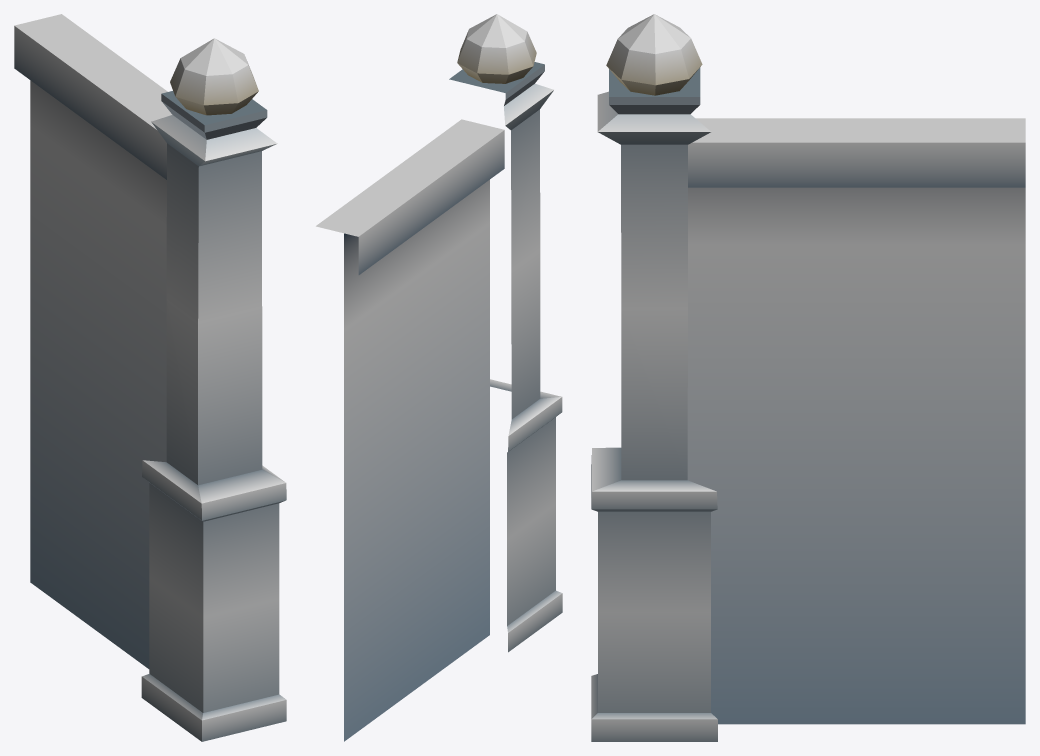
Rendered from WarpWall.gltf.
The picture shows the model from 3 angles, left to right: view 1: azimuth 30°, elevation 25°; view 2: azimuth 150°, elevation 25°; view 3: azimuth 270°, elevation 25°; orthographic projection. The views are drawn at different scales.
Visible parts, largest first — view 1: WarpWallMesh; view 2: WarpWallMesh; view 3: WarpWallMesh.
Part boxes in pixels (left/top/right/bottom): WarpWallMesh: left=14, top=14, right=286, bottom=741; WarpWallMesh: left=316, top=14, right=562, bottom=741; WarpWallMesh: left=591, top=14, right=1025, bottom=741.
Size of the model in its own units: 0.8913 by 6.74 by 3.76.
